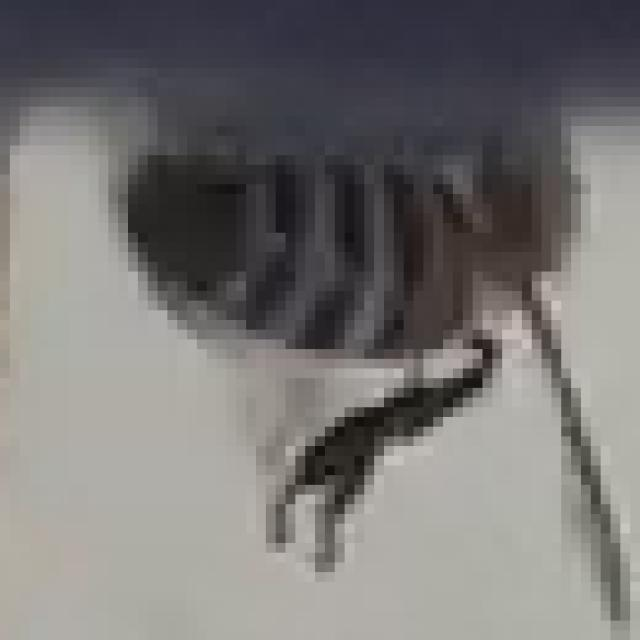honeybee: (81, 104, 623, 586)
